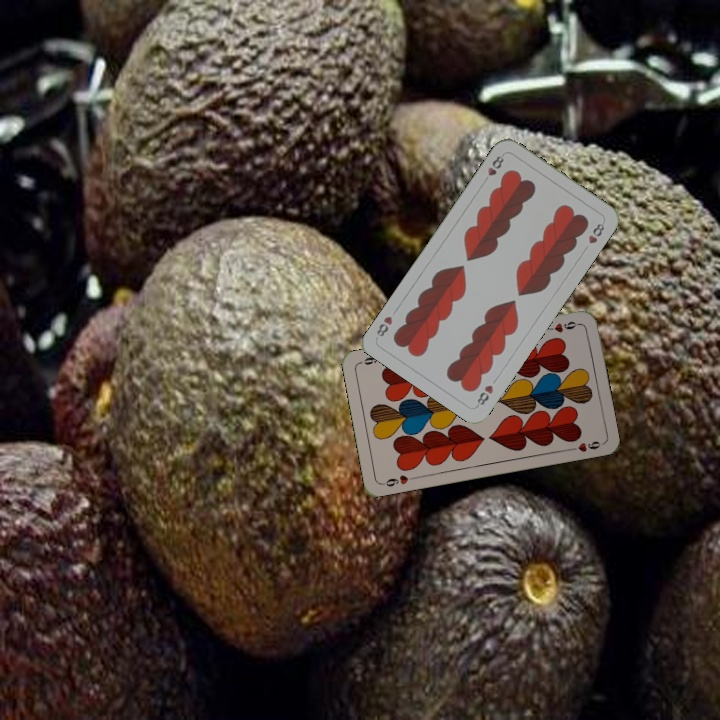H8: (472, 381, 496, 410), (483, 152, 506, 178)
H9: (378, 471, 419, 489), (542, 317, 582, 335)
